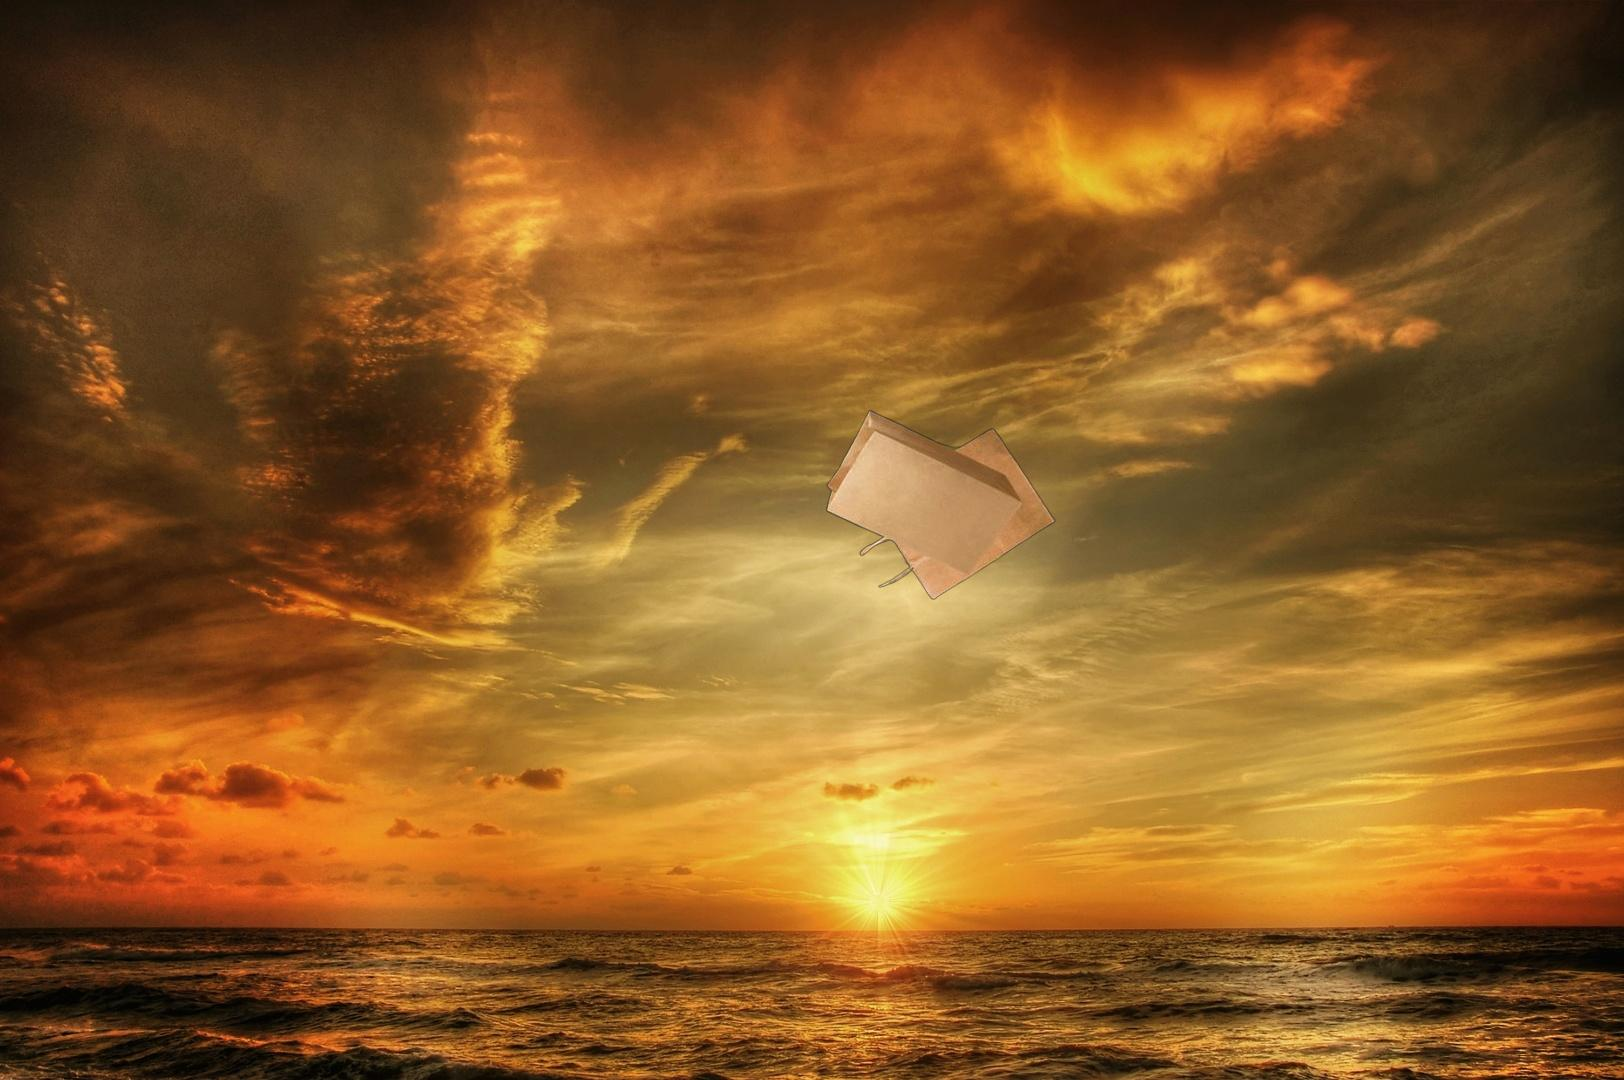paper-bag: (823, 407, 1057, 601)
